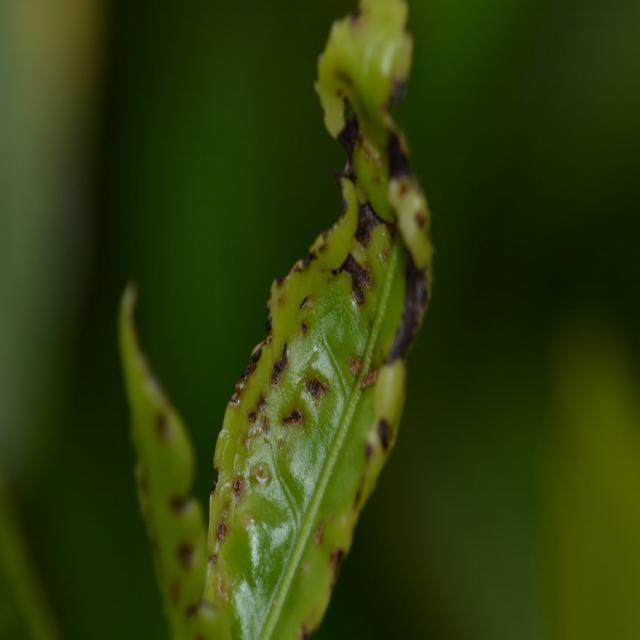Tea red scab: (209, 75, 443, 612)
